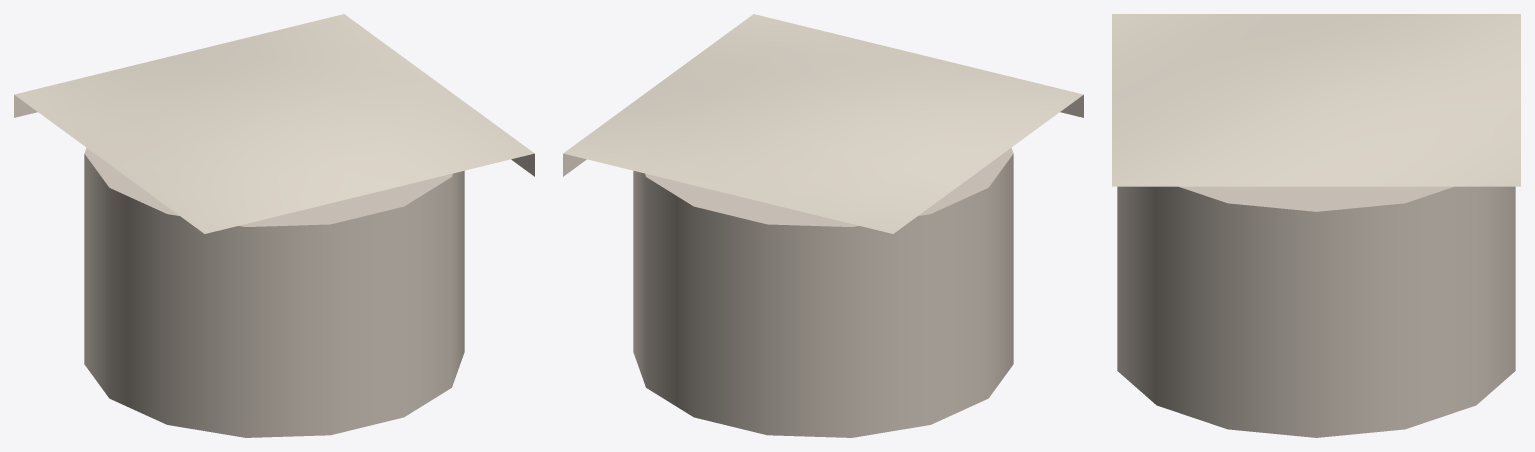
Rendered from pouf.glb.
The picture shows the model from 3 angles, left to right: view 1: azimuth 30°, elevation 25°; view 2: azimuth 150°, elevation 25°; view 3: azimuth 270°, elevation 25°; orthographic projection. The views are drawn at different scales.
Bounding box in the file's own units: 0.59 × 0.422 × 0.59.
